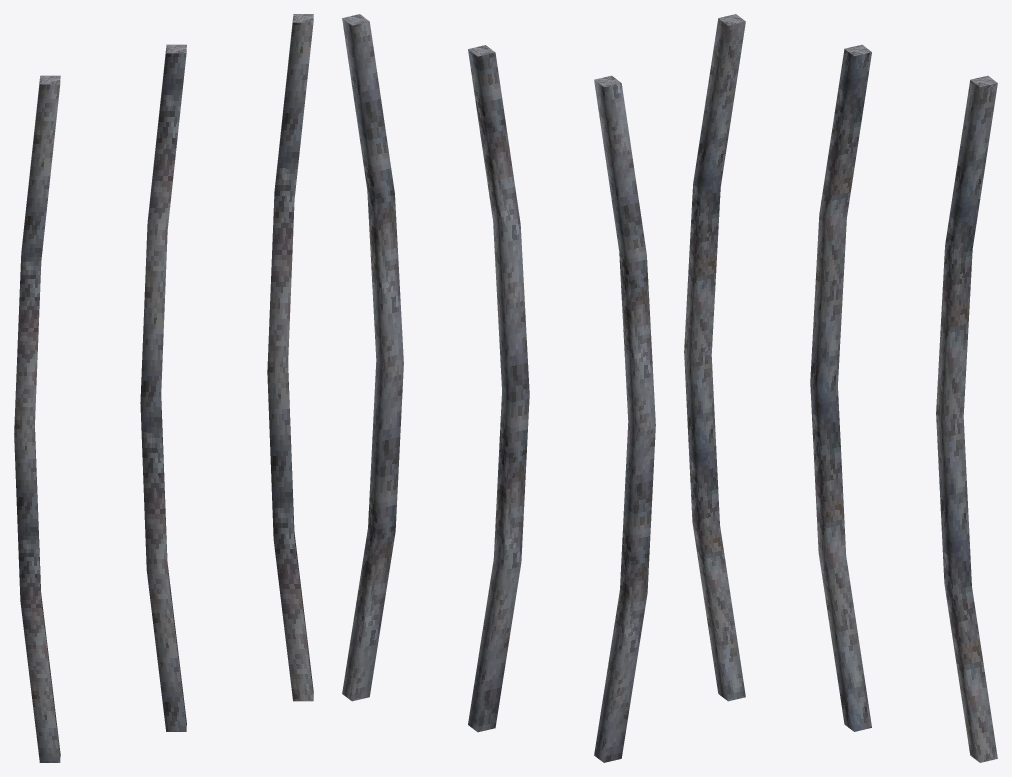
File: EKH_JAIL_ANIM_JA_DUMB_GATE2__AI.fbx
The picture shows the model from 3 angles, left to right: view 1: azimuth 30°, elevation 25°; view 2: azimuth 150°, elevation 25°; view 3: azimuth 330°, elevation 25°; orthographic projection.
Parts seen in each view (by area): view 1: EKH_JAIL_ANIM_JA_DUMB_GATE2__AI; view 2: EKH_JAIL_ANIM_JA_DUMB_GATE2__AI; view 3: EKH_JAIL_ANIM_JA_DUMB_GATE2__AI.
Boxes of the visible parts, x1,y1,x2,y2 form: EKH_JAIL_ANIM_JA_DUMB_GATE2__AI: [14, 14, 313, 762]; EKH_JAIL_ANIM_JA_DUMB_GATE2__AI: [342, 14, 655, 762]; EKH_JAIL_ANIM_JA_DUMB_GATE2__AI: [684, 14, 997, 762].
Size of the model in its own units: 7373 by 15551 by 774.
1 material, 1 textured.
